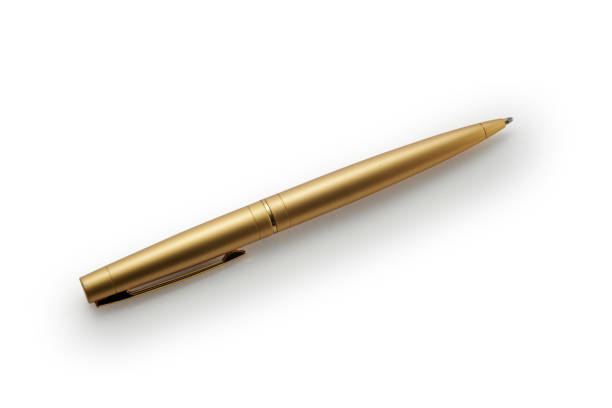pen: (74, 109, 517, 318)
